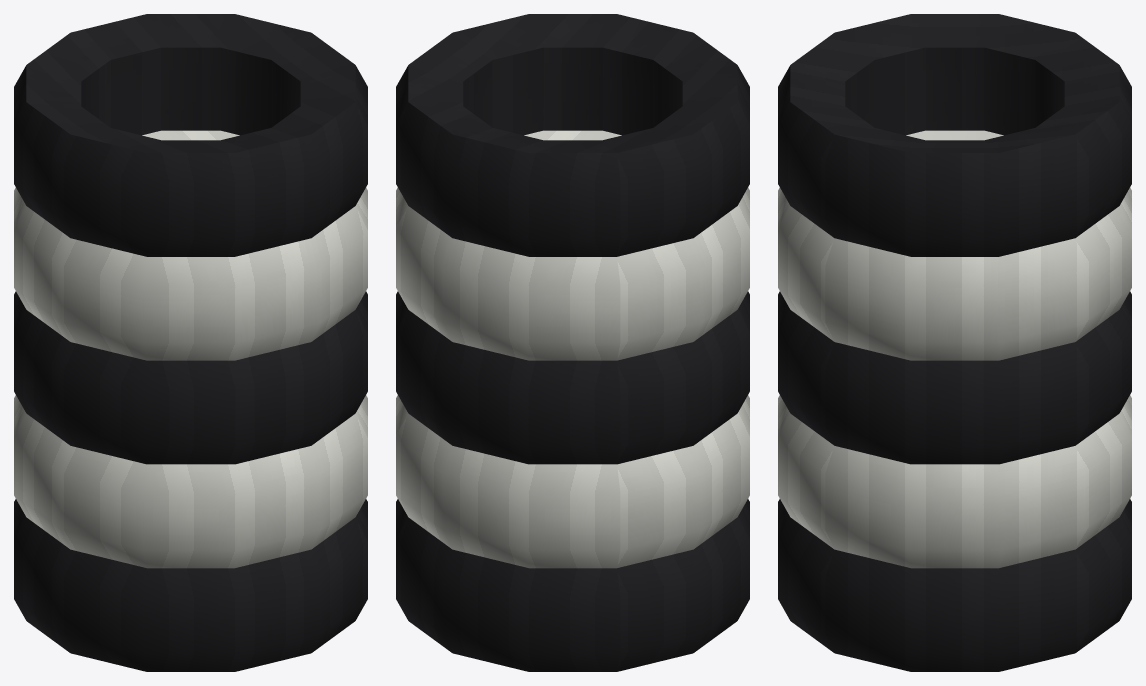
File: pneus_pilha_5.glb
3 views of the same model, side by side, from view 1: azimuth 30°, elevation 25°; view 2: azimuth 150°, elevation 25°; view 3: azimuth 270°, elevation 25° (orthographic).
Parts seen in each view (by area): view 1: Inteiro, Peca_02; view 2: Inteiro, Peca_02; view 3: Inteiro, Peca_02.
Part boxes in pixels (x1=…): Inteiro: x1=14, y1=14, x2=367, y2=671; Peca_02: x1=14, y1=331, x2=365, y2=464; Inteiro: x1=396, y1=14, x2=749, y2=671; Peca_02: x1=409, y1=335, x2=749, y2=464; Inteiro: x1=778, y1=14, x2=1131, y2=671; Peca_02: x1=793, y1=339, x2=1121, y2=464.
Bounding box in the file's own units: 0.6182 × 1 × 0.6182.
1 material, 1 textured.
